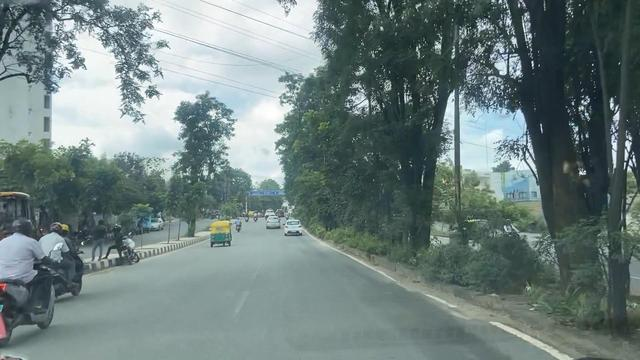LMV: (210, 220, 231, 247), (281, 216, 303, 236), (265, 217, 278, 229)
